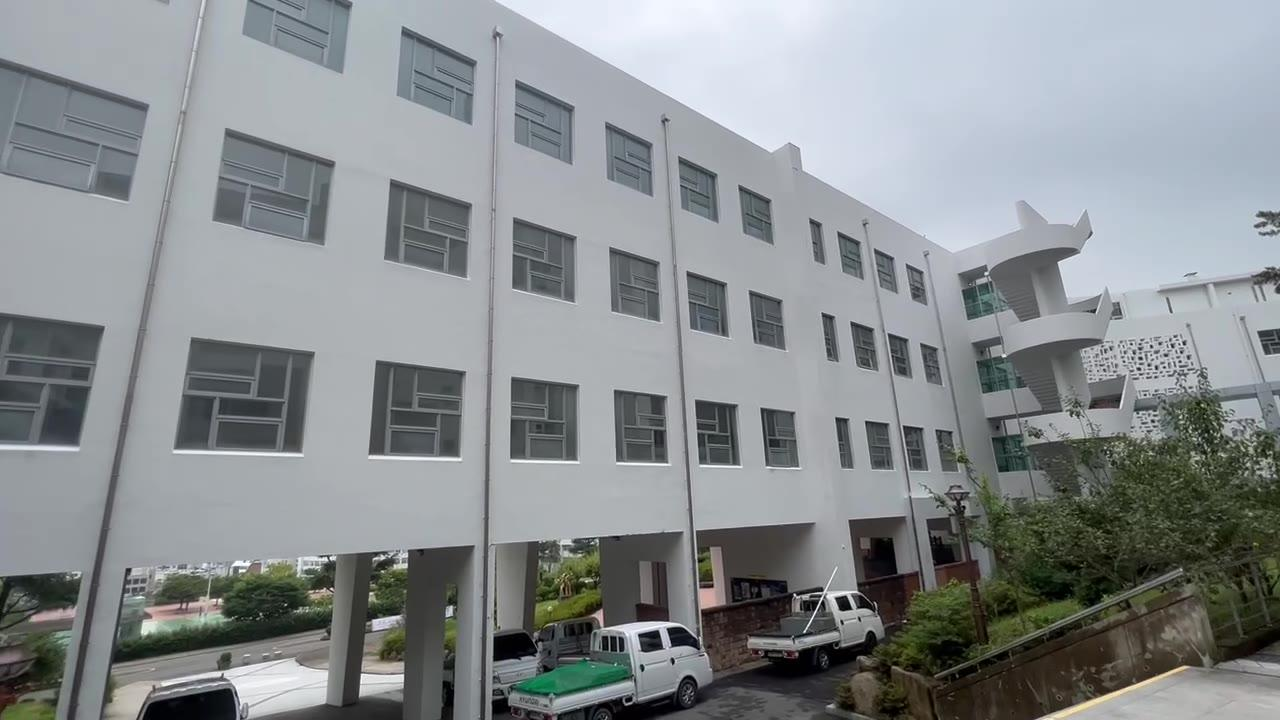building: (37, 27, 958, 497)
